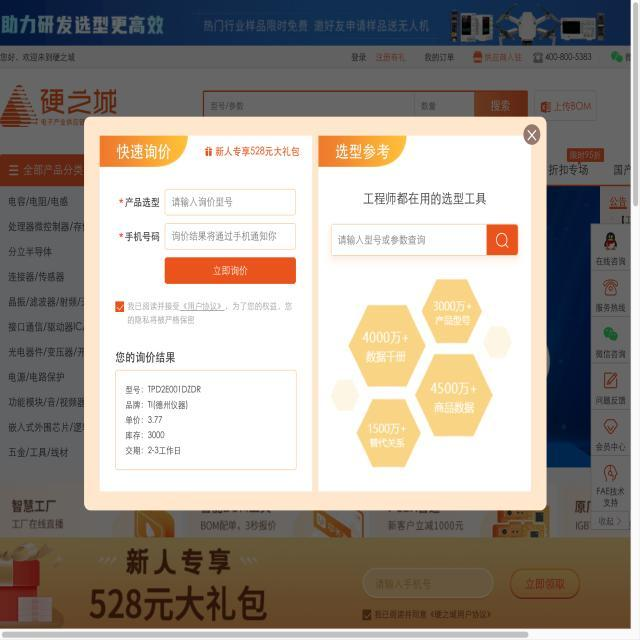button: (162, 254, 298, 286), (486, 222, 518, 258)
checkbox: (112, 298, 297, 326)
input field: (330, 220, 488, 258), (164, 186, 298, 218), (163, 221, 297, 252)
modal: (72, 100, 556, 526)
